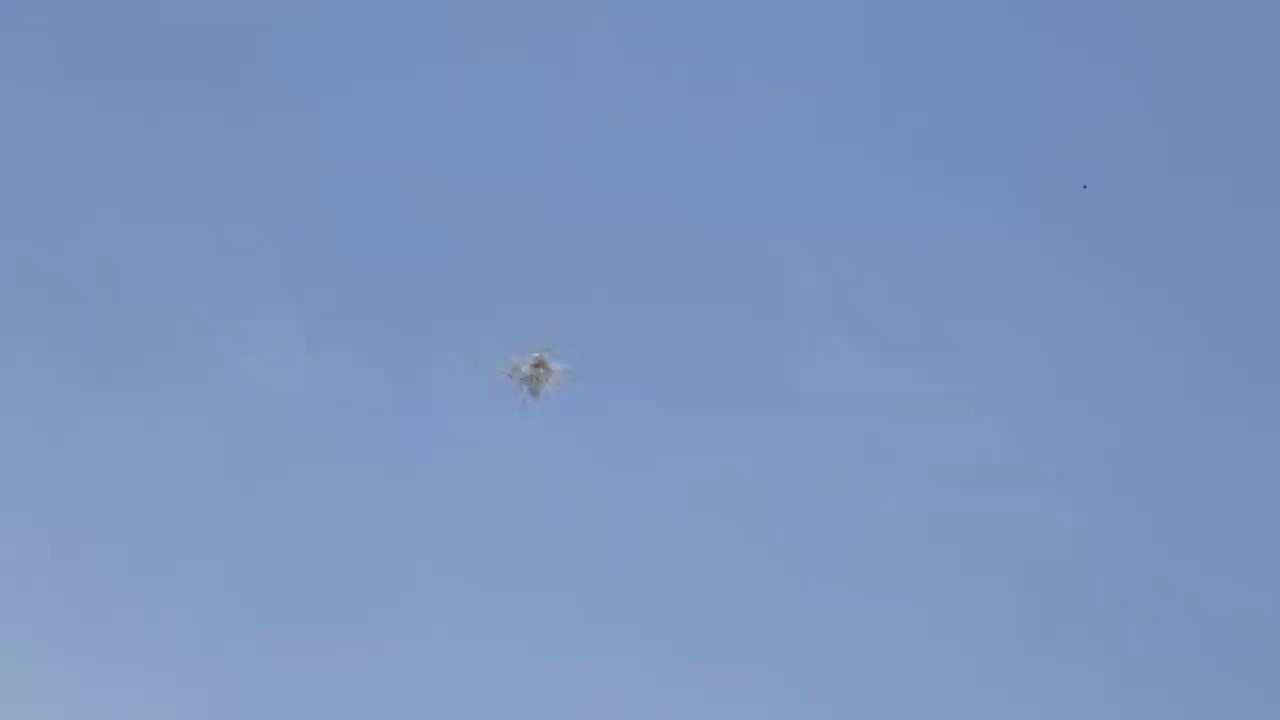drone: (494, 336, 600, 420)
